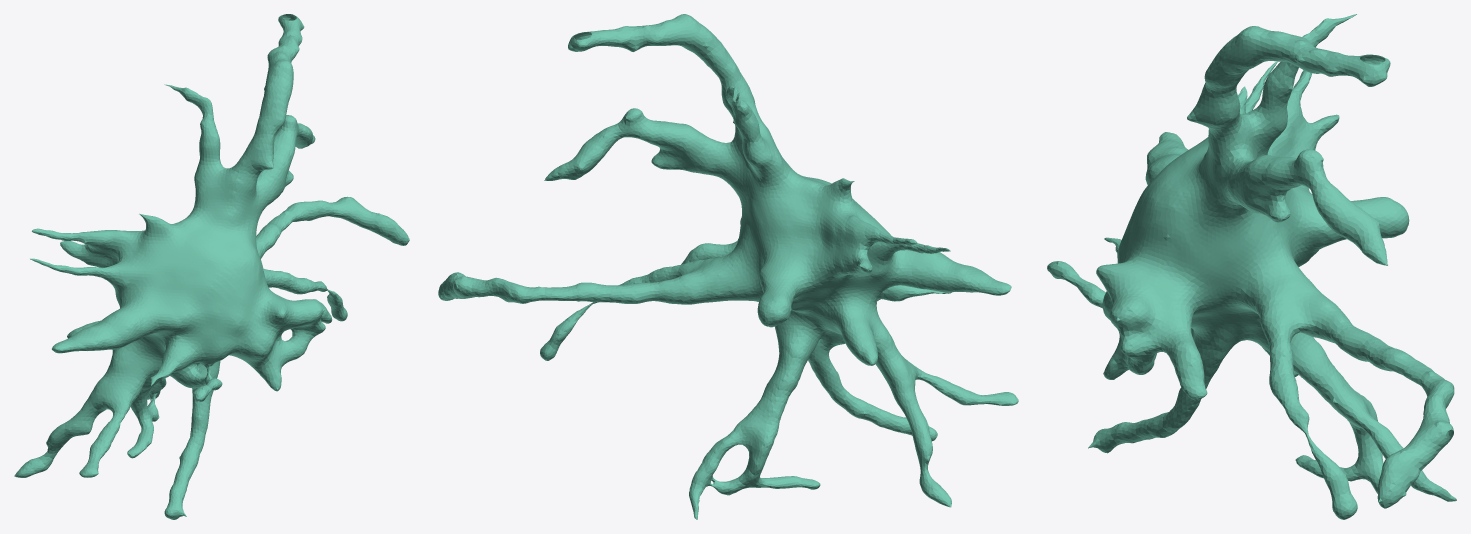
The model's file is crazy.glb.
3 renders of one model, left to right at view 1: azimuth 30°, elevation 25°; view 2: azimuth 150°, elevation 25°; view 3: azimuth 270°, elevation 25°, orthographic. The views are drawn at different scales.
Parts seen in each view (by area): view 1: mesh; view 2: mesh; view 3: mesh.
Boxes of the visible parts, x1=… form: mesh: x1=14, y1=14, x2=409, y2=519; mesh: x1=438, y1=14, x2=1018, y2=519; mesh: x1=1047, y1=14, x2=1456, y2=519.
Size of the model in its own units: 1.11 by 0.9367 by 0.6474.
